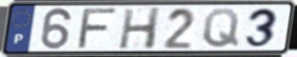2: (161, 6, 198, 50)
3: (242, 6, 285, 50)
6: (39, 6, 74, 51)
F: (75, 7, 121, 51)
H: (117, 6, 163, 51)
Q: (201, 7, 241, 49)
